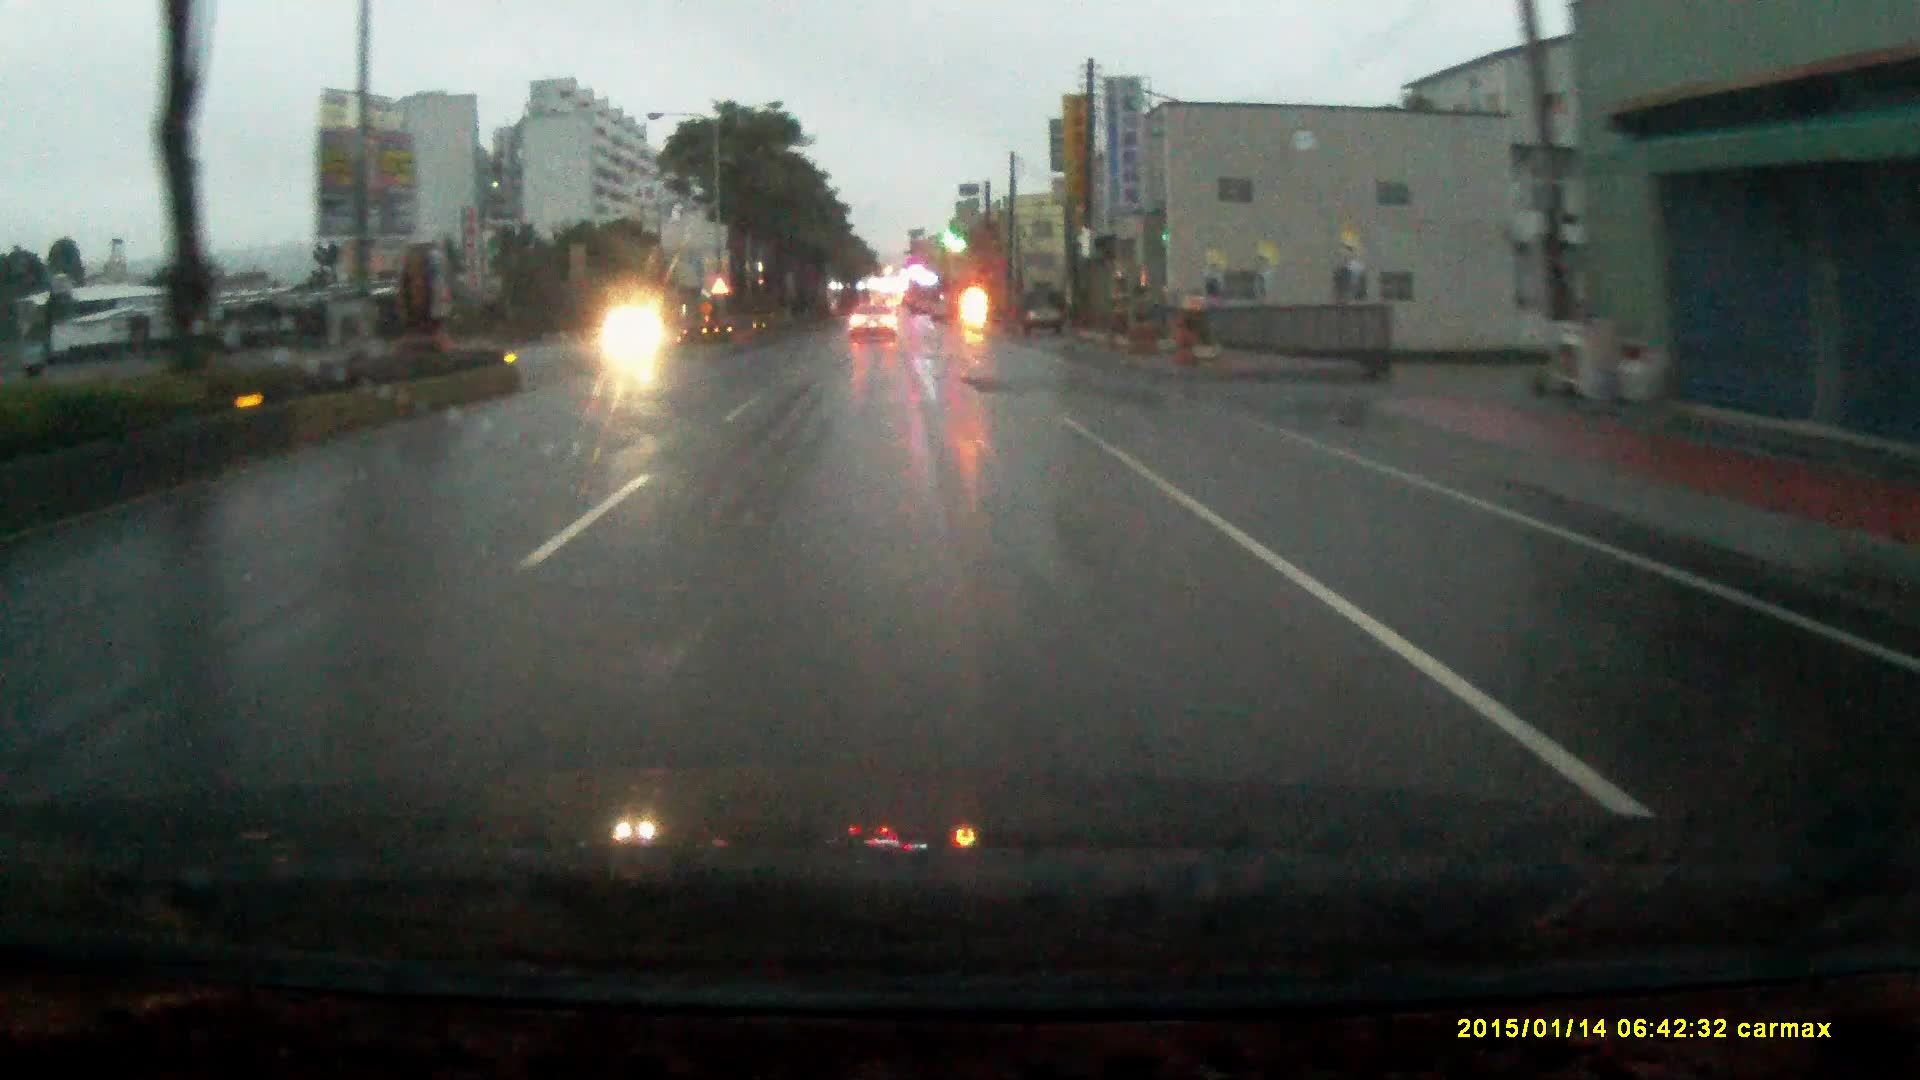vehicle: (847, 295, 898, 334), (1023, 286, 1062, 332)
